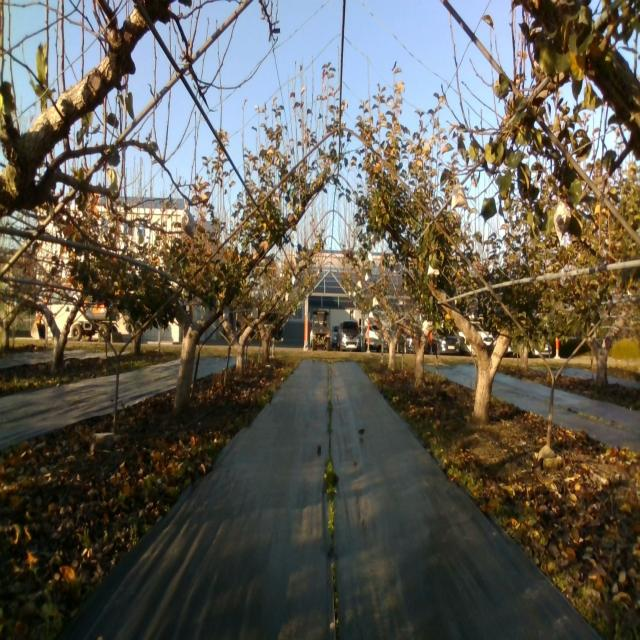pearbags: (554, 199, 572, 242), (180, 202, 196, 240), (451, 182, 469, 210)
